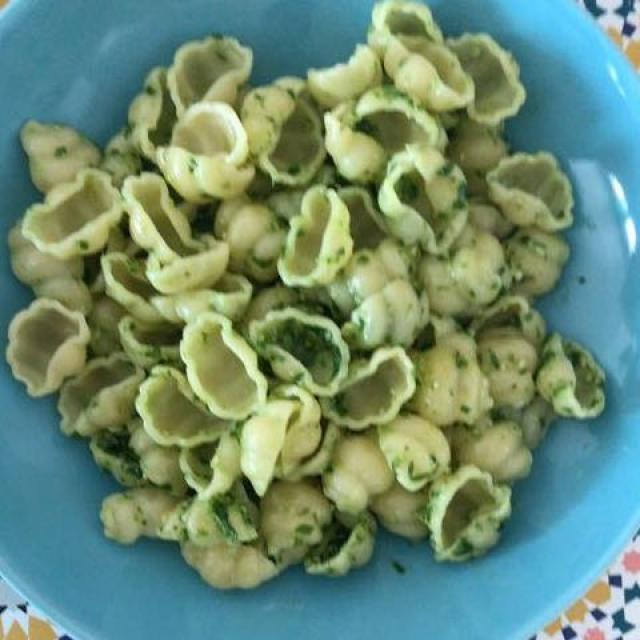pasta: (23, 19, 605, 573)
sauce-pesto: (79, 62, 511, 587)
